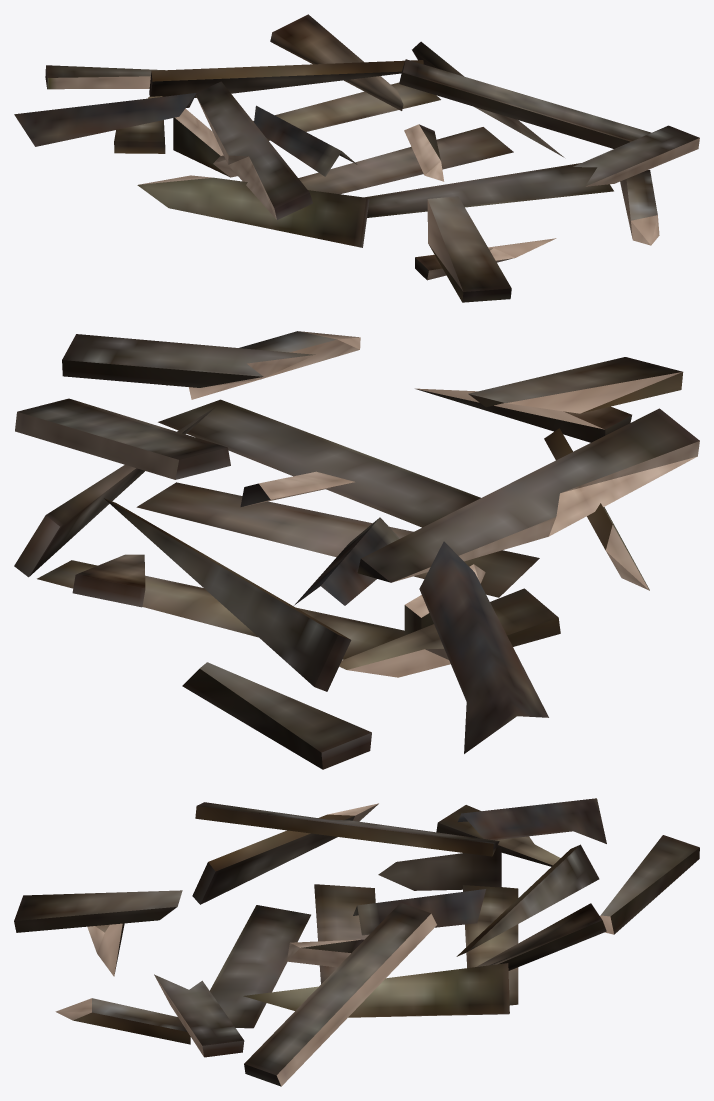
File: SM_EN_2005_ganchai01.FBX
3 renders of one model, top to bottom at view 1: azimuth 30°, elevation 25°; view 2: azimuth 150°, elevation 25°; view 3: azimuth 270°, elevation 25°, orthographic. The views are drawn at different scales.
Parts seen in each view (by area): view 1: SM_EN_2005_ganchai01; view 2: SM_EN_2005_ganchai01; view 3: SM_EN_2005_ganchai01.
Part boxes in pixels (x1,y1,x2,y2): SM_EN_2005_ganchai01: [14, 14, 699, 302]; SM_EN_2005_ganchai01: [14, 331, 699, 769]; SM_EN_2005_ganchai01: [14, 798, 699, 1086].
Size of the model in its own units: 71.06 by 11.28 by 83.26.
